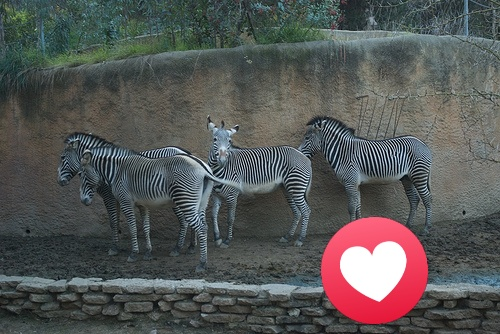love: (321, 217, 428, 324)
